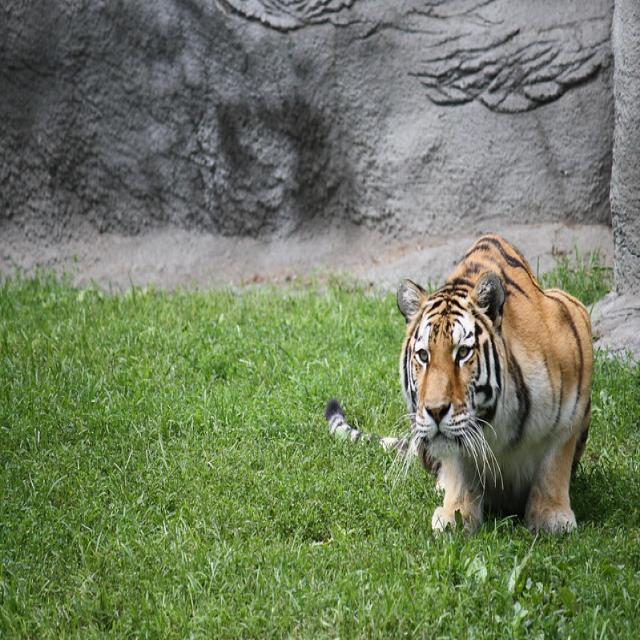Tiger: (323, 232, 594, 537)
